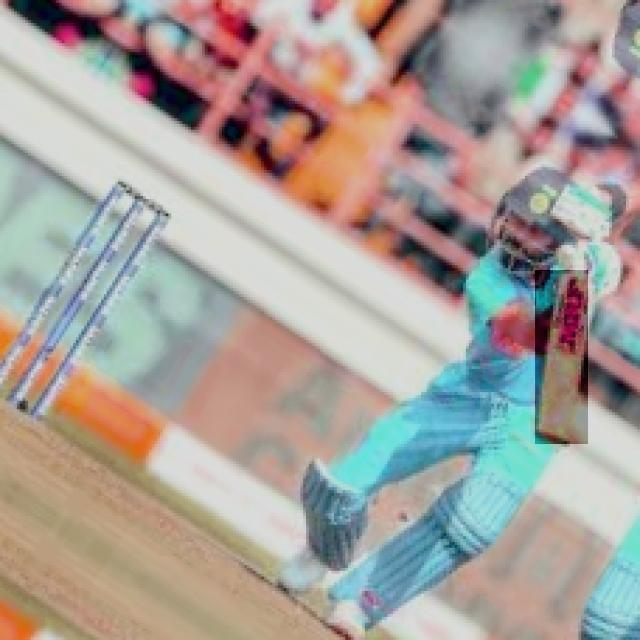bat: (538, 268, 592, 446)
toe: (534, 429, 591, 446)
